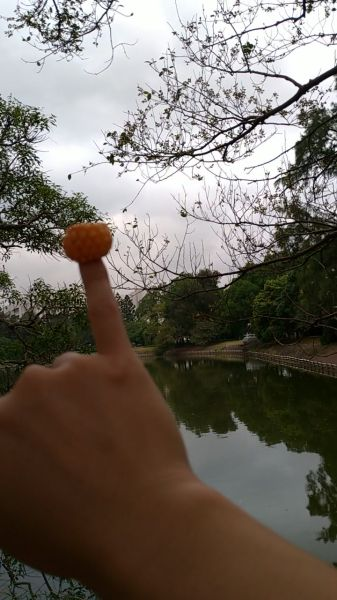eggs: (63, 222, 112, 264)
